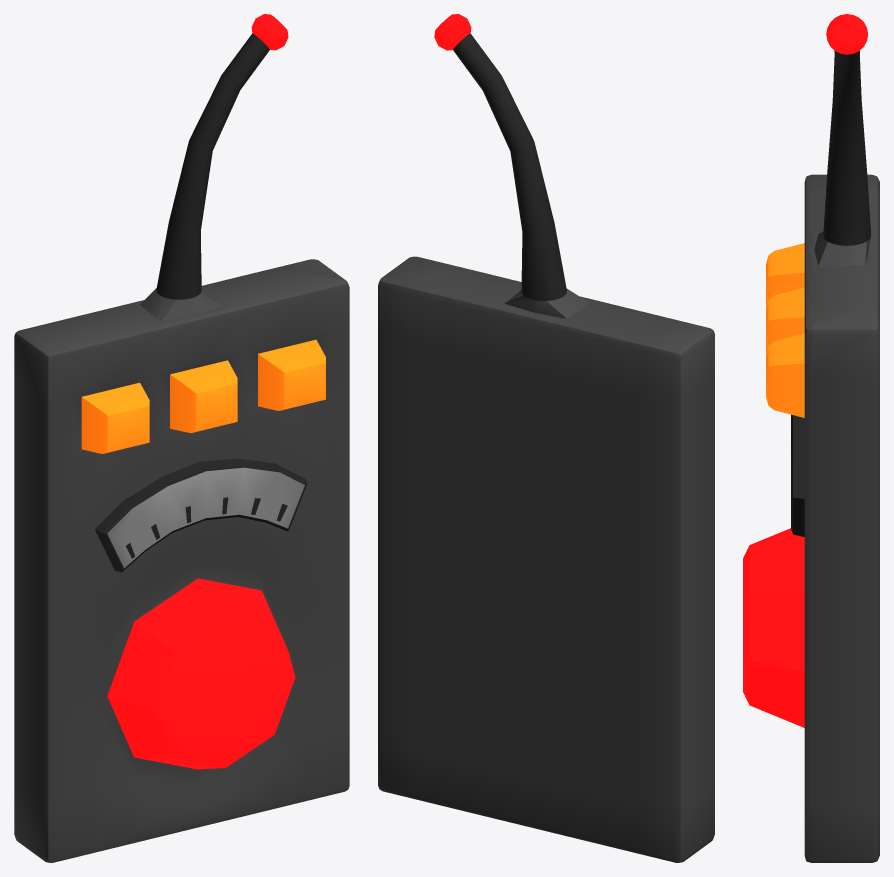
Rendered from teleport.fbx.
3 views of the same model, side by side, from view 1: azimuth 30°, elevation 25°; view 2: azimuth 150°, elevation 25°; view 3: azimuth 270°, elevation 25° (orthographic). The views are drawn at different scales.
Visible parts, largest first — view 1: Cube.038; view 2: Cube.038; view 3: Cube.038.
Part boxes in pixels (bbox=[...]): Cube.038: bbox=[14, 14, 349, 862]; Cube.038: bbox=[378, 14, 714, 862]; Cube.038: bbox=[743, 14, 879, 862].
Size of the model in its own units: 57.2 by 139 by 21.13.
